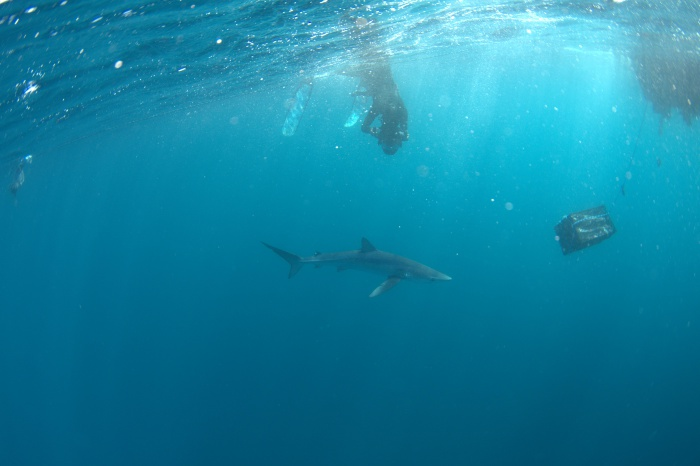Azul: (259, 229, 456, 299)
